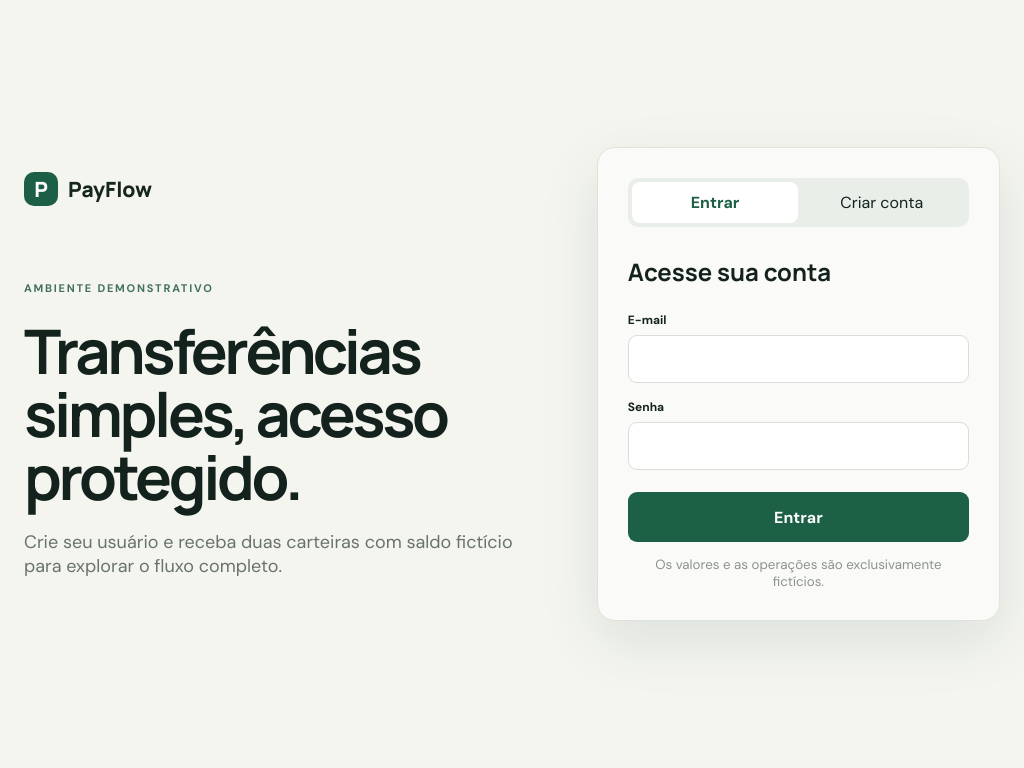
PayFlow dashboard › returns to login without authenticating after registration
Step 1. Click the link "Criar conta" → (882, 202), box [840,192,923,213]
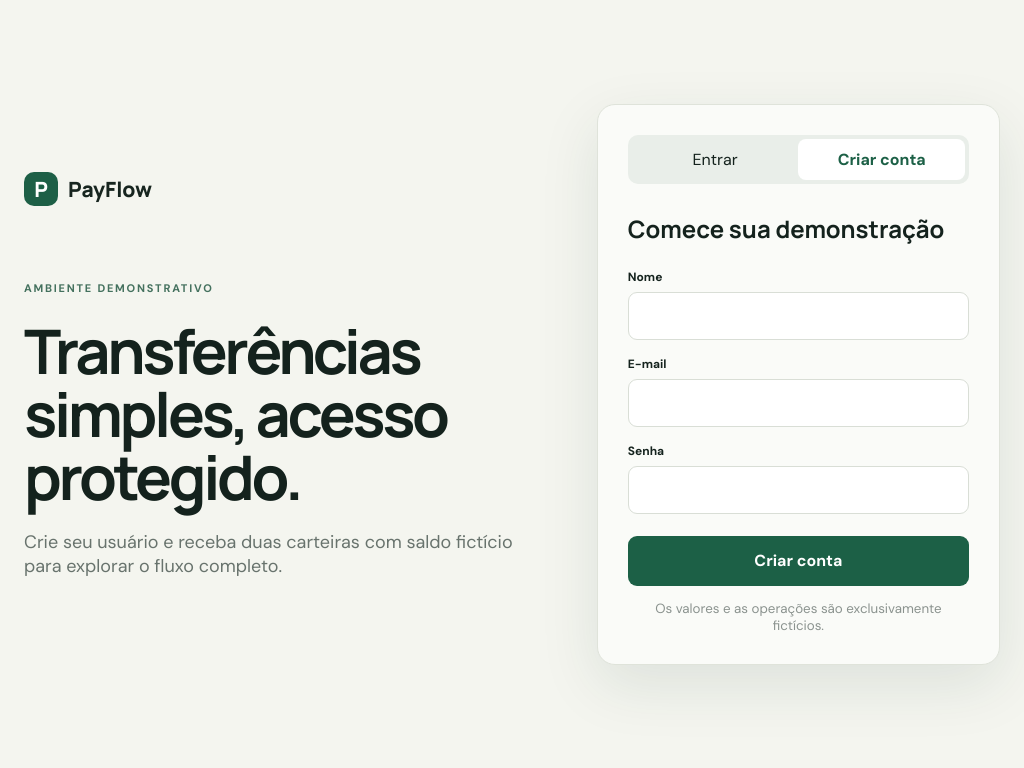
Step 2. Type "New User" into the field labelled "Nome" → (798, 316), box [628,292,969,340]
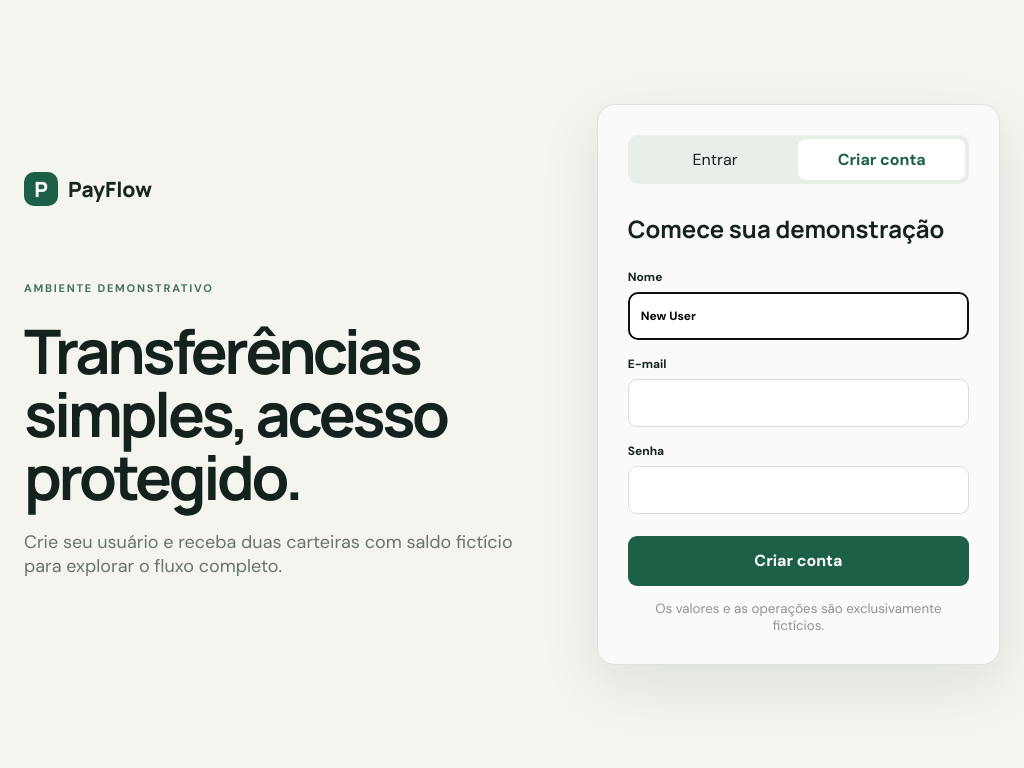
Step 3. Type "new@example.com" into the field labelled "E-mail" → (798, 402), box [628,378,969,426]
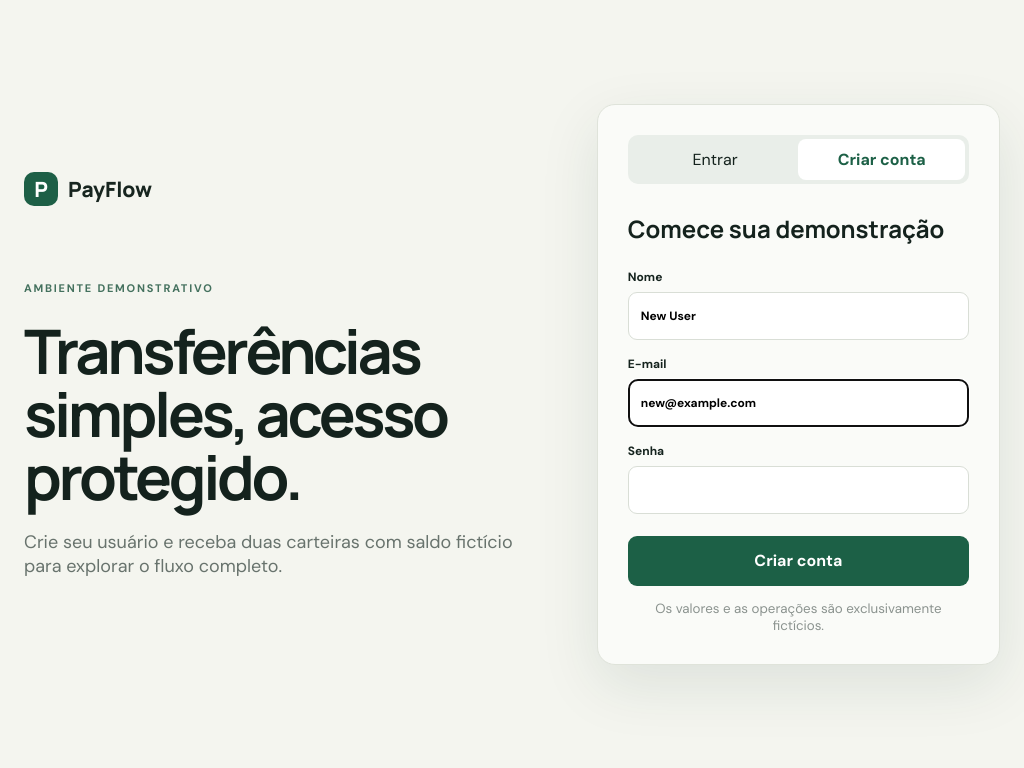
Step 4. Type "safe-password" into the password field labelled "Senha" → (798, 490), box [628,466,969,514]
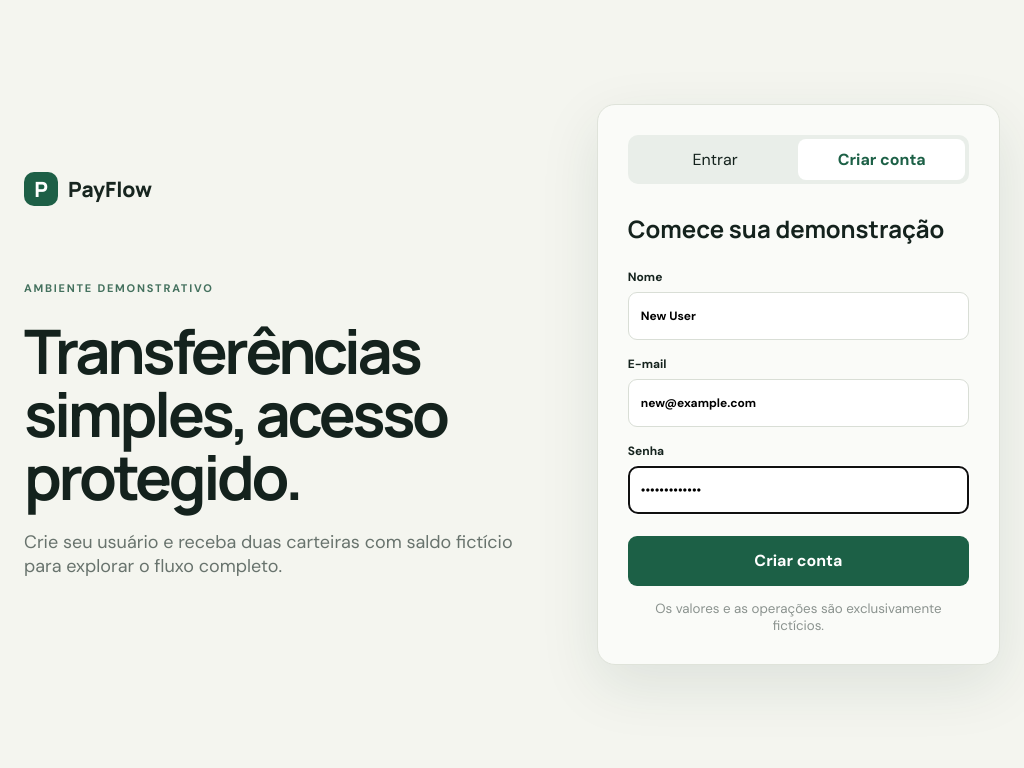
Step 5. Click the button "Criar conta" → (798, 560), box [628,536,969,586]
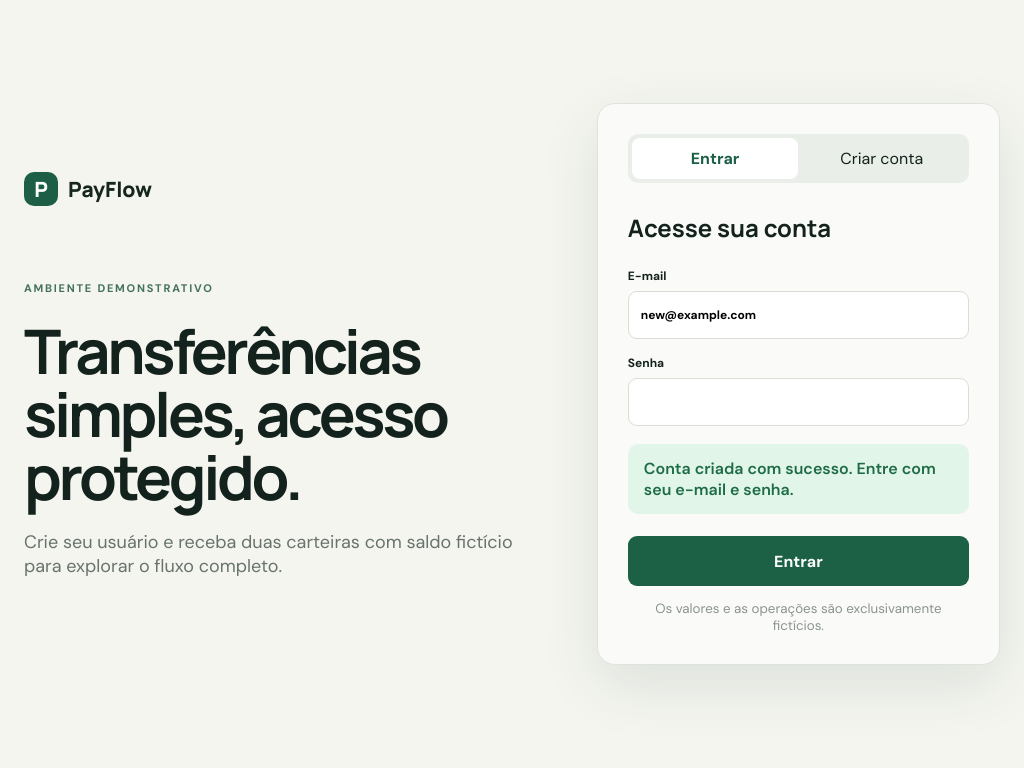
Now the heading "Acesse sua conta" is shown, box [628,211,831,244]
Now the message reads "Conta criada com sucesso. Entre com seu e-mail e senha.", box [644,458,936,500]
Now the field labelled "E-mail" holds "new@example.com", box [628,291,969,339]
